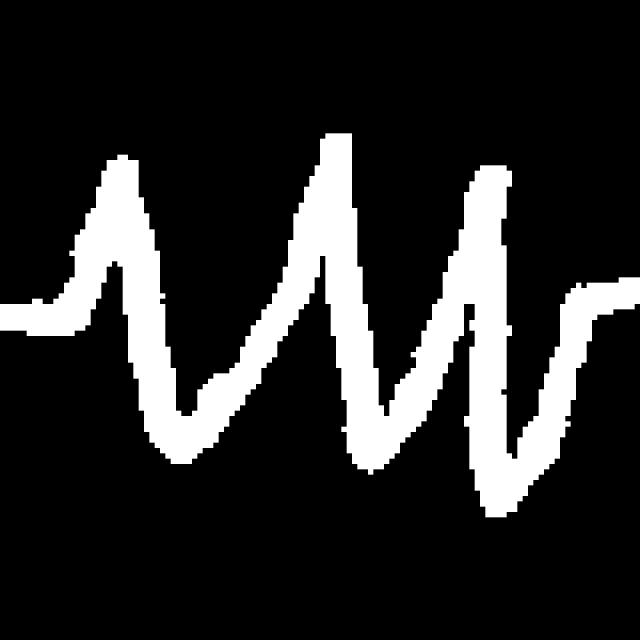resistor: (54, 120, 596, 550)
